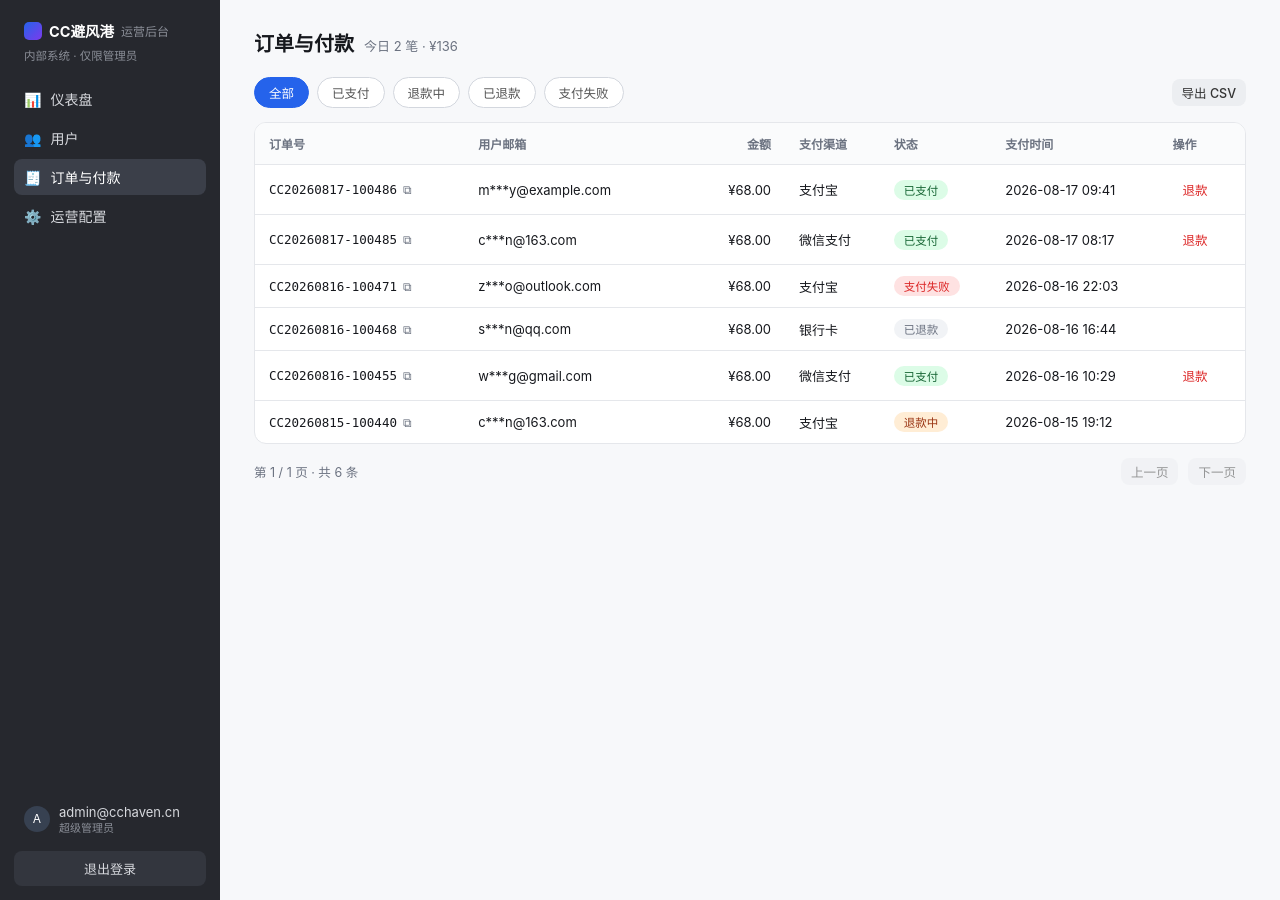
Test: 订单与付款页 › 状态筛选 chips 生效，空结果给出提示
This screenshot has width=1280, height=900.
Expected: the text "今日 2 笔 · ¥136" is shown, [364,38,458,54]
Click the button "已退款". click: point(502, 92)
box: [468,77,536,108]
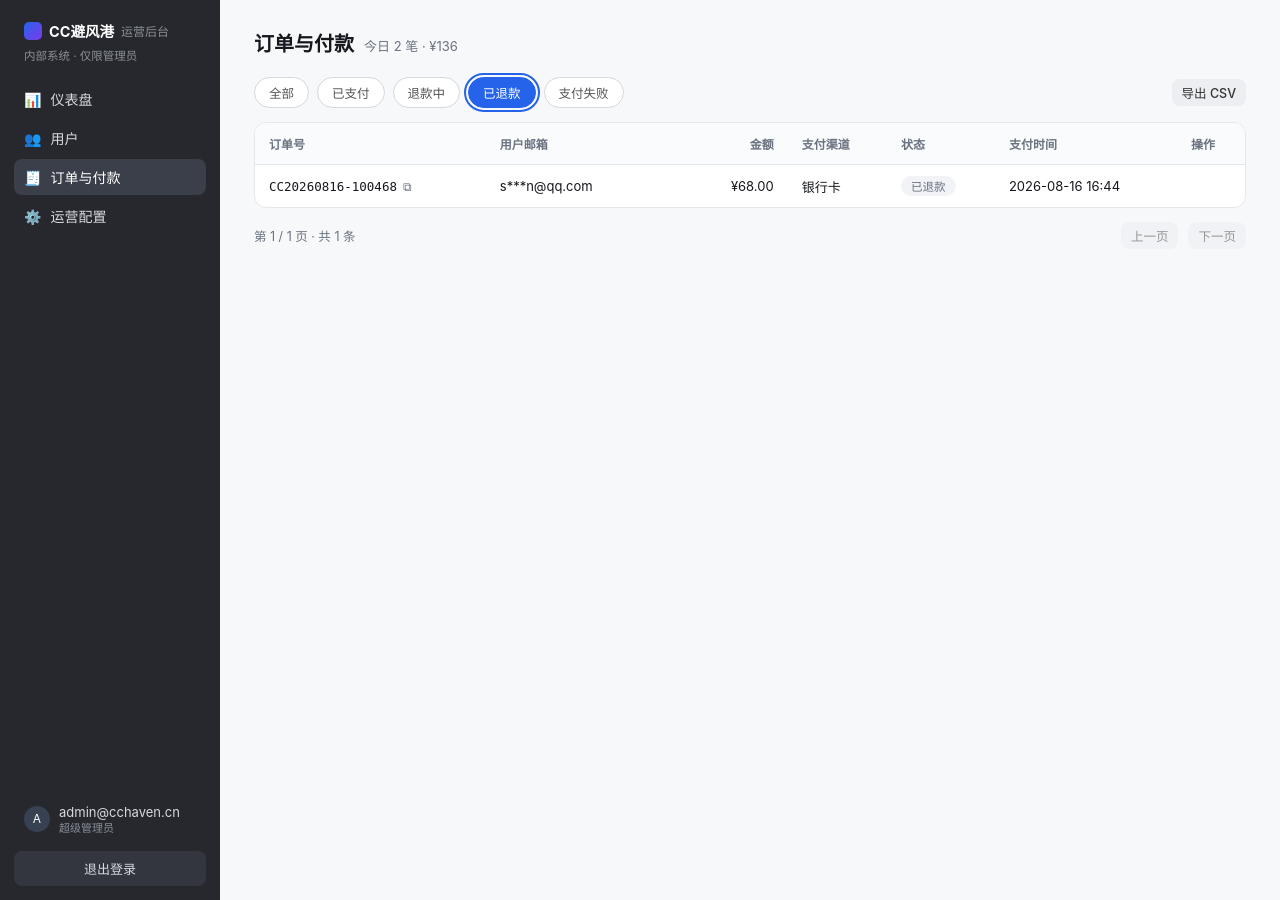
Click the button "支付失败". click: point(584, 92)
box: [544,77,624,108]
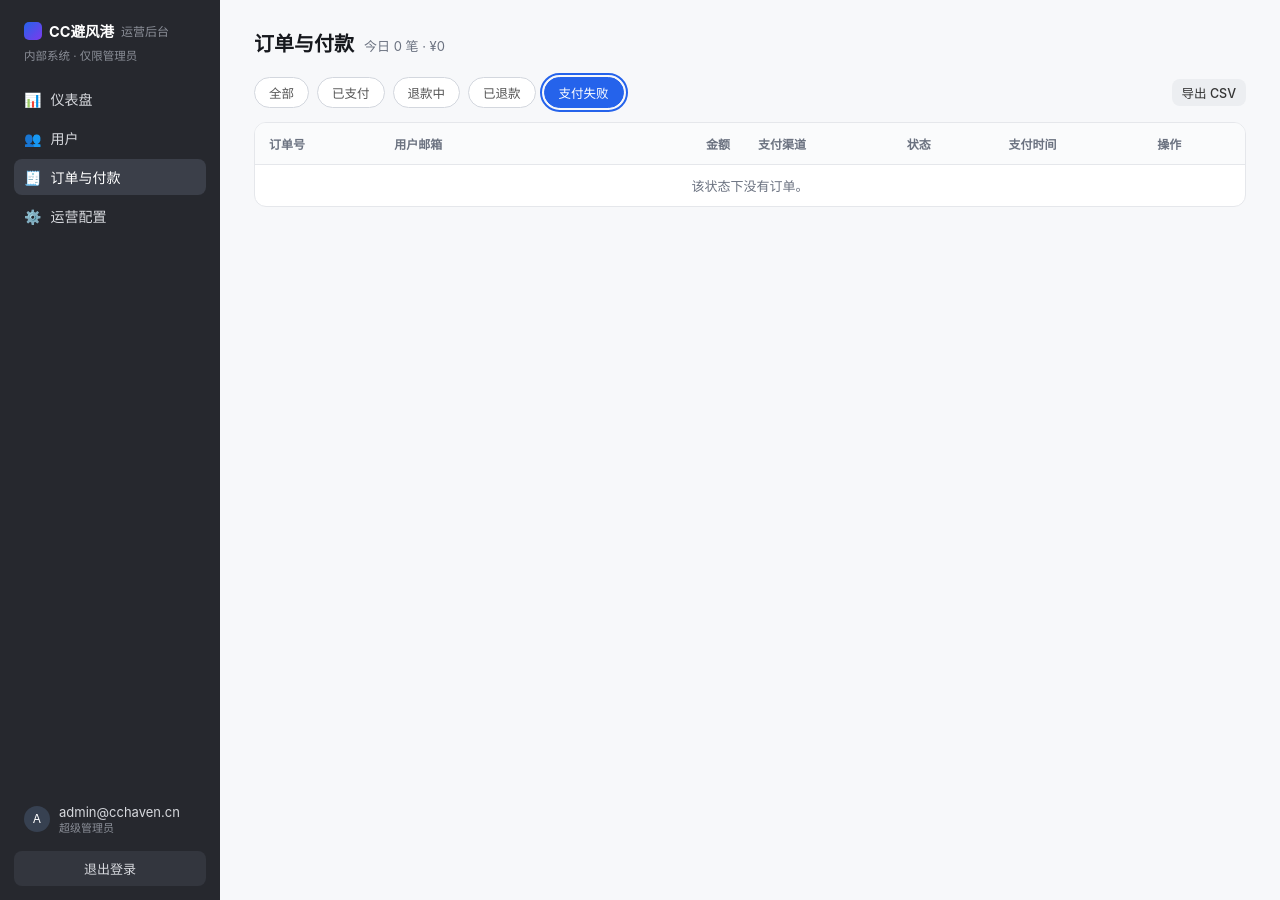
Result: the text "该状态下没有订单。" is shown at [255,164,1245,206]
